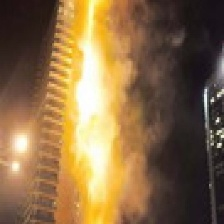fire: (76, 3, 110, 172)
